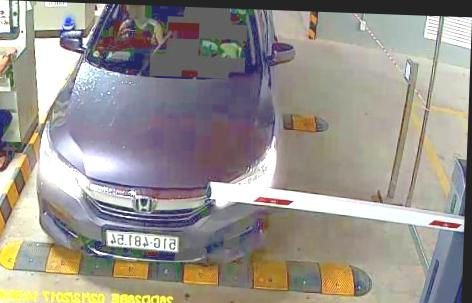License_Plate: (104, 226, 180, 258)
